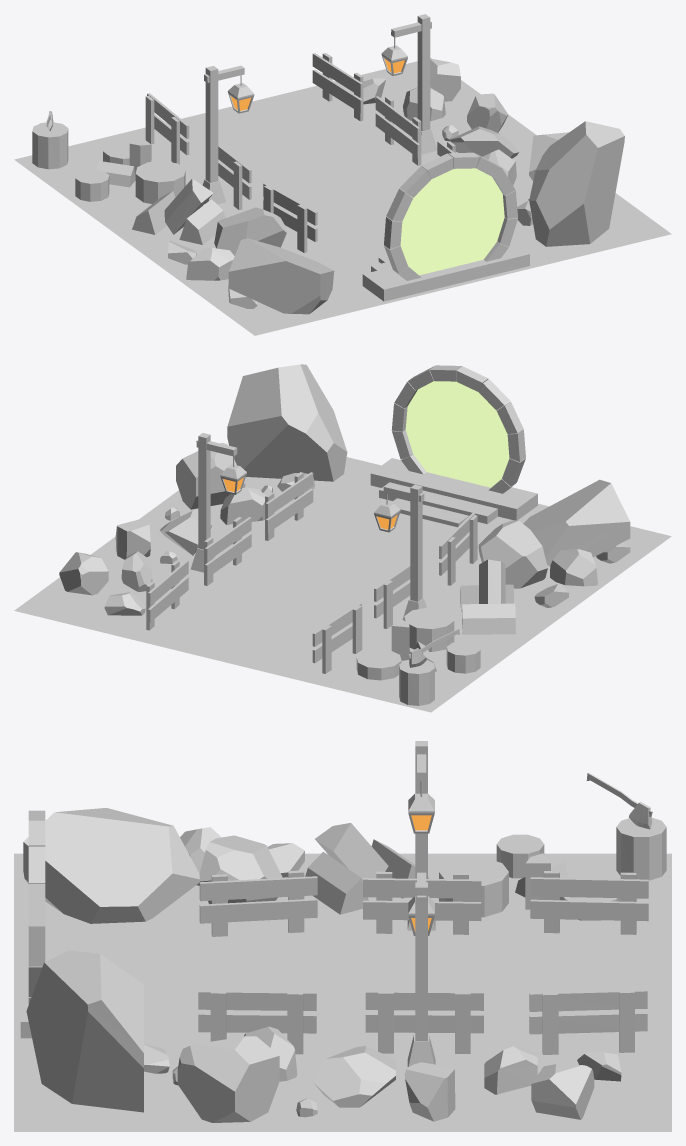
The model's file is portal.glb.
3 renders of one model, top to bottom at view 1: azimuth 30°, elevation 25°; view 2: azimuth 150°, elevation 25°; view 3: azimuth 270°, elevation 25°, orthographic. The views are drawn at different scales.
Visible parts, largest first — view 1: baked, portalLight; view 2: baked, portalLight; view 3: baked.
Part boxes in pixels (x1,y1,x2,y2): baked: (14, 14, 671, 335); portalLight: (400, 168, 504, 275); baked: (14, 364, 671, 712); portalLight: (405, 381, 509, 487); baked: (14, 741, 671, 1131).
Bounding box in the file's own units: 4 × 1.21 × 4.
